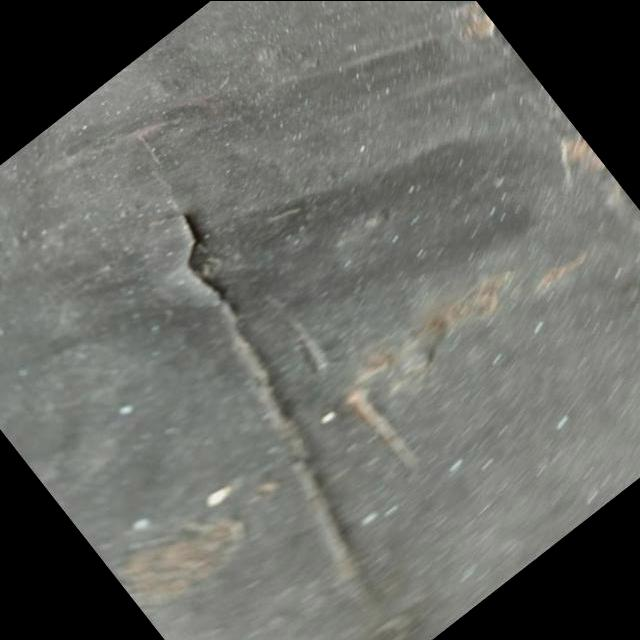defect: (174, 206, 377, 593)
